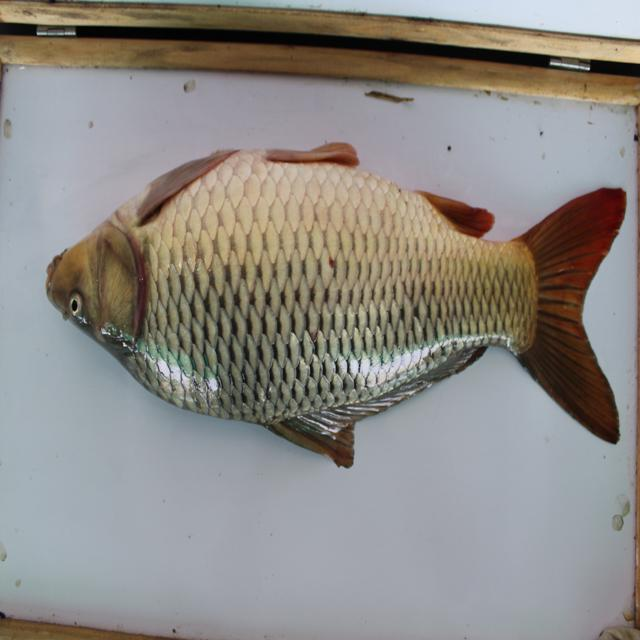Grass Carp: (44, 140, 626, 477)
